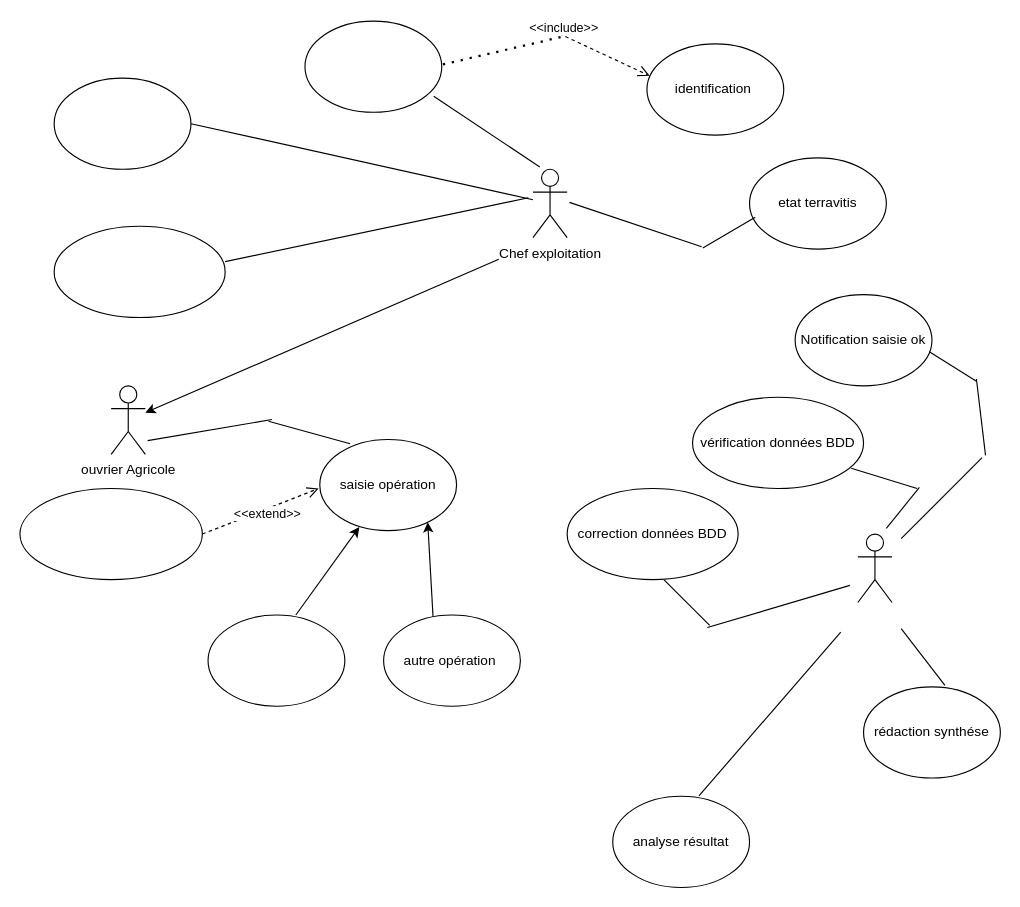
The diagram is 1020 pixels wide and 907 high, and some of its shapes have lost their labels. Each missing label, with the centre of its shape:
chercheur: (874,567)
consultation de glossaire: (110,533)
correction éventuelle: (122,123)
operation phyto: (276,660)
saisie BDD: (373,66)
vérification saisie cahier: (139,271)
